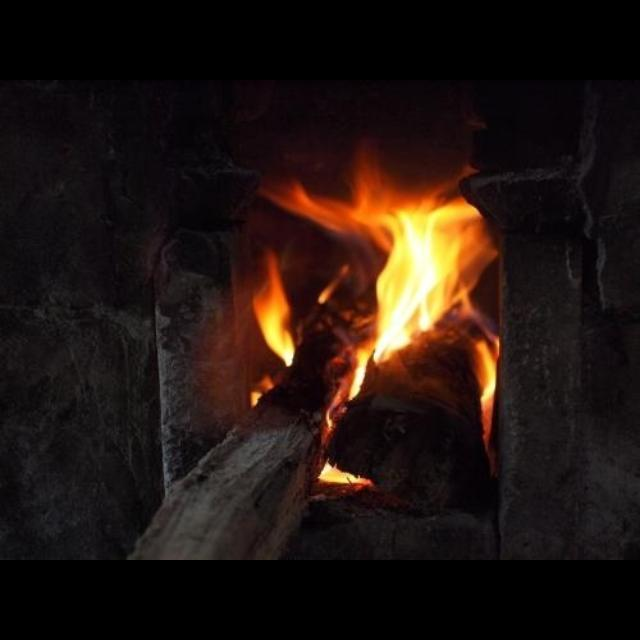Fire: (250, 142, 502, 448), (316, 460, 374, 484)
